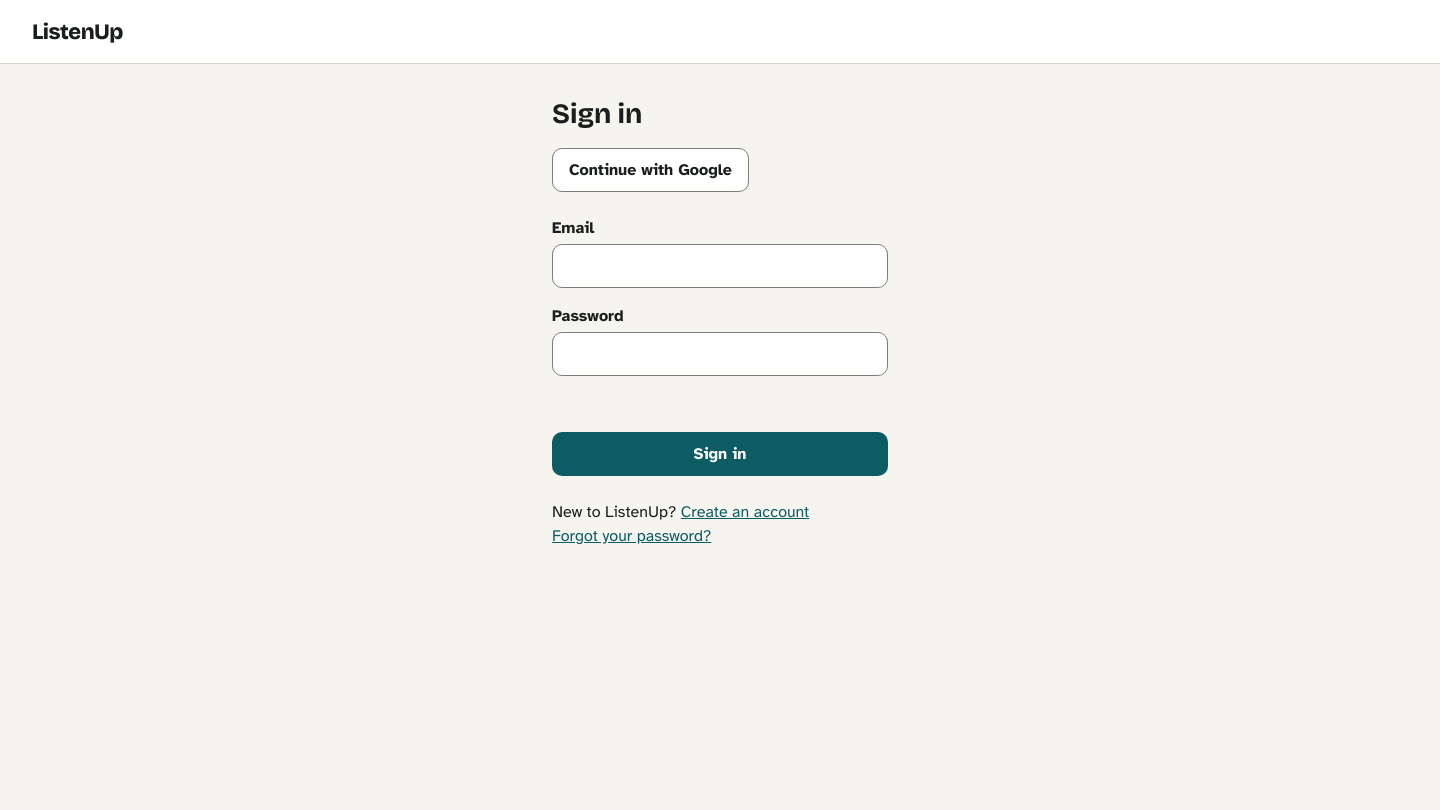
Test: one try before the pause, a calm warning names it with the reset link (UX-35)
The width and height of the screenshot is (1440, 810).
Type "learner@example.com" into the field labelled "Email" at (720, 266), box top-left (552, 244), bottom-right (888, 288)
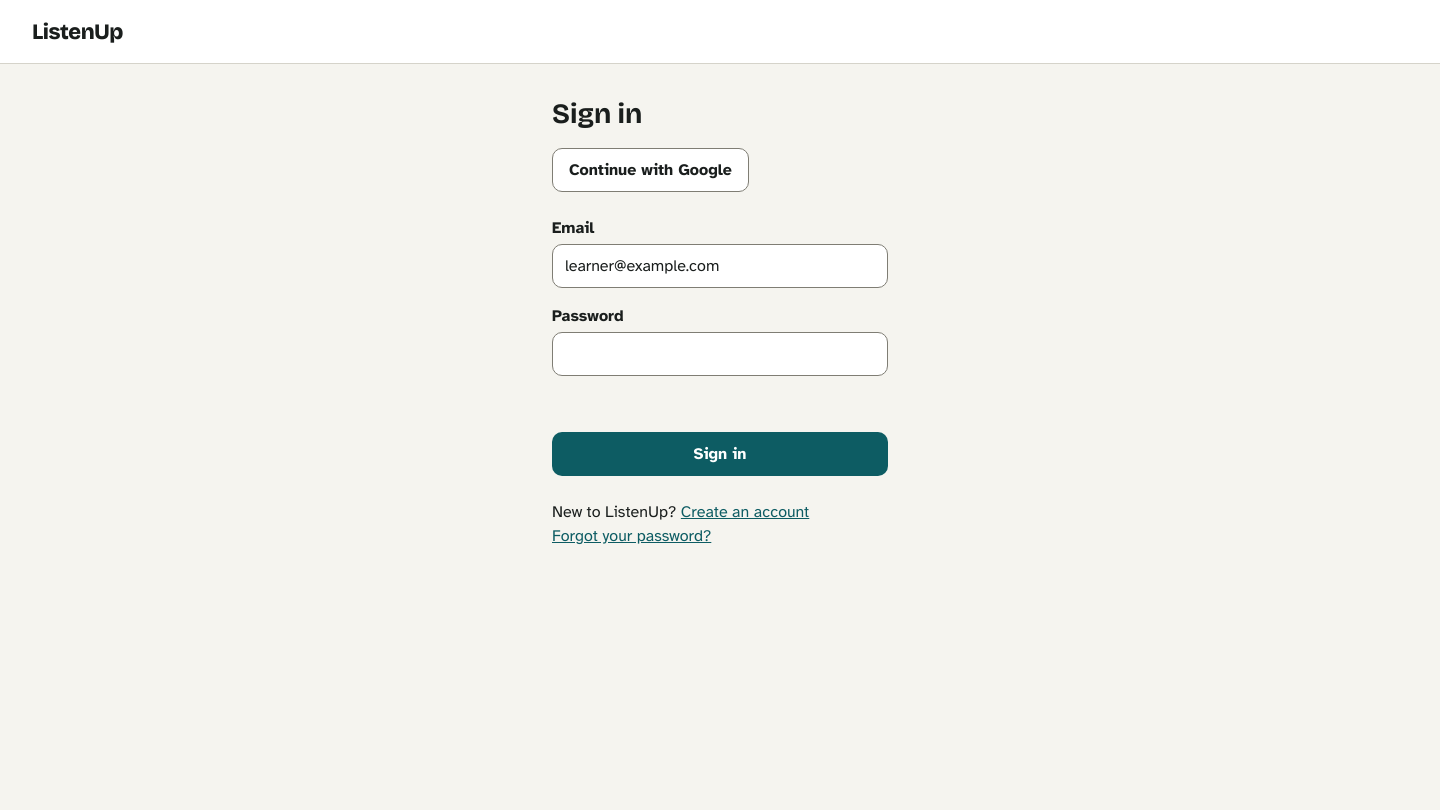
Type "correct horse" into the password field labelled "Password" at (720, 354), box top-left (552, 332), bottom-right (888, 376)
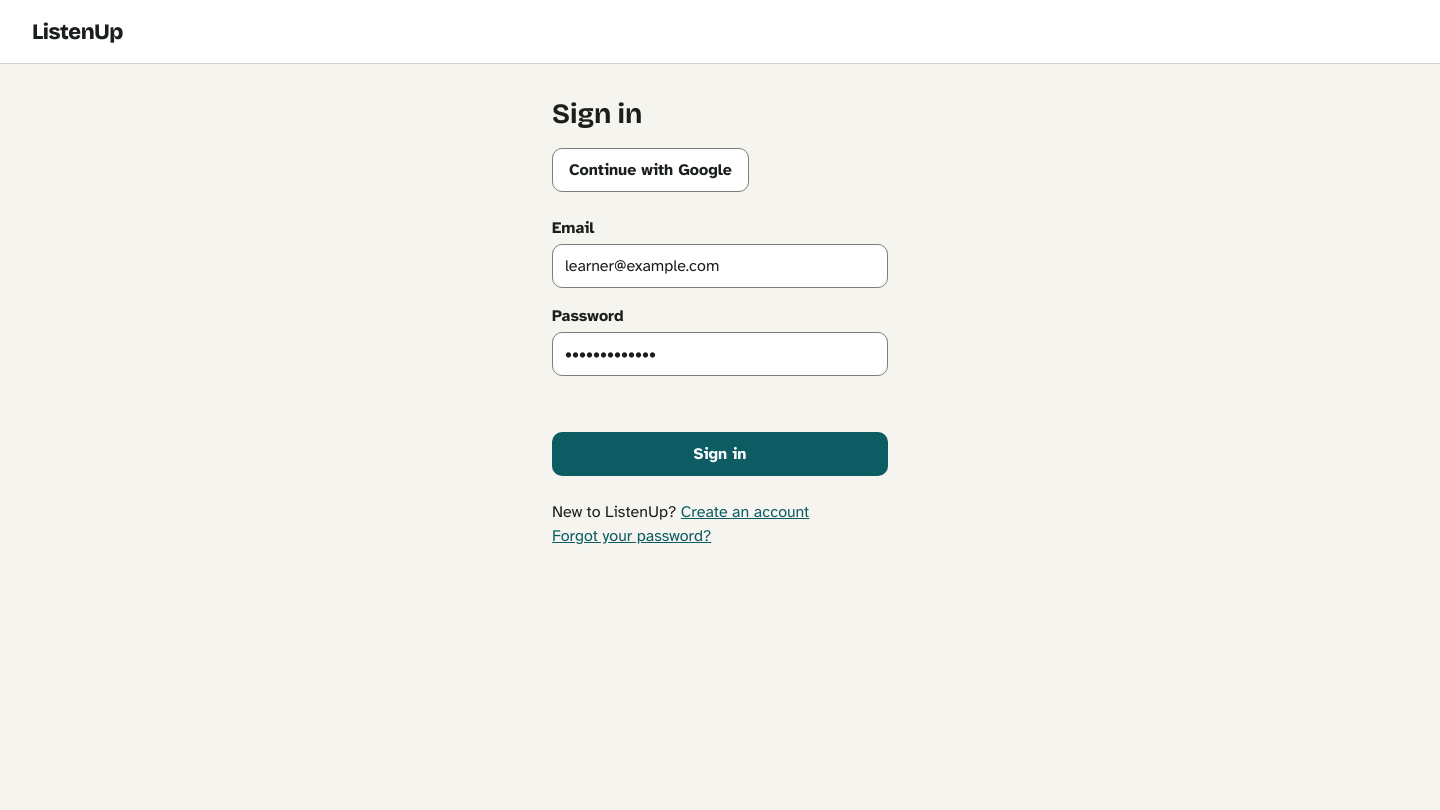
Click the button "Sign in" at (720, 454), box top-left (552, 432), bottom-right (888, 476)
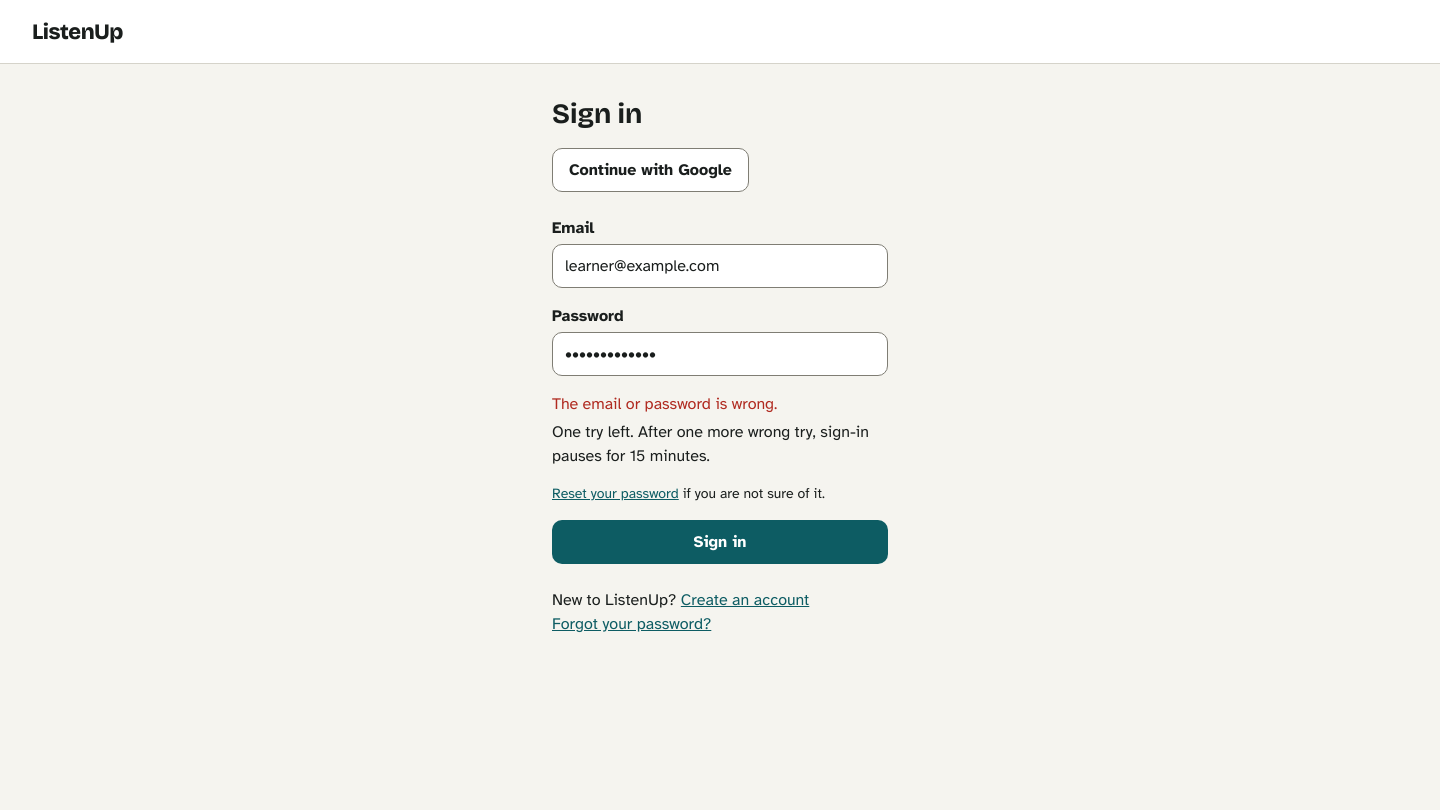
Now the message shows "The email or password is wrong.", box top-left (552, 394), bottom-right (777, 414)
Now the message shows "One try left. After one more wrong try, sign-in pauses for 15 minutes.", box top-left (552, 392), bottom-right (888, 468)
